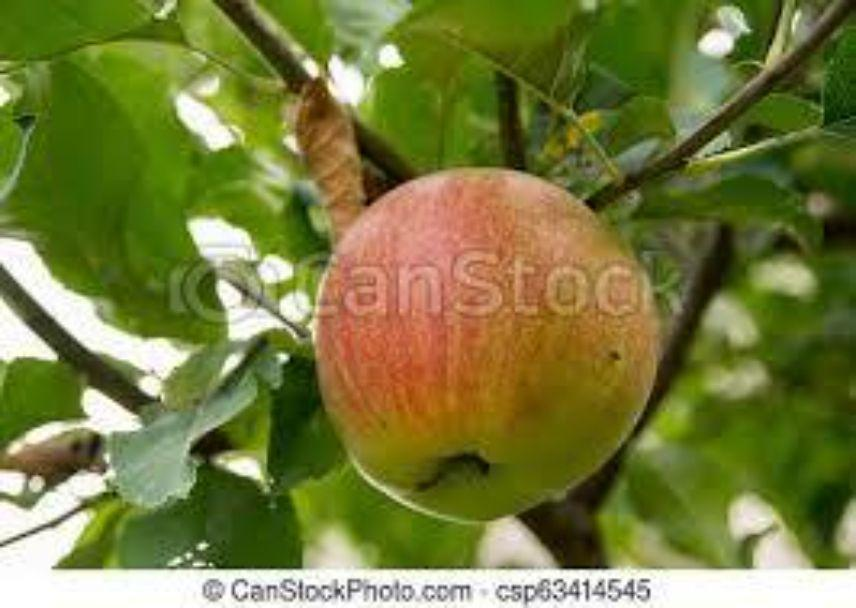HEALTHY: (307, 152, 690, 546)
